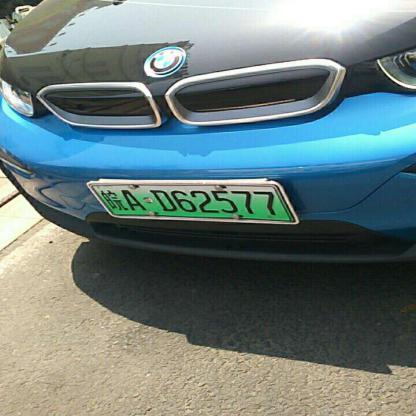lp: (87, 185, 292, 220)
